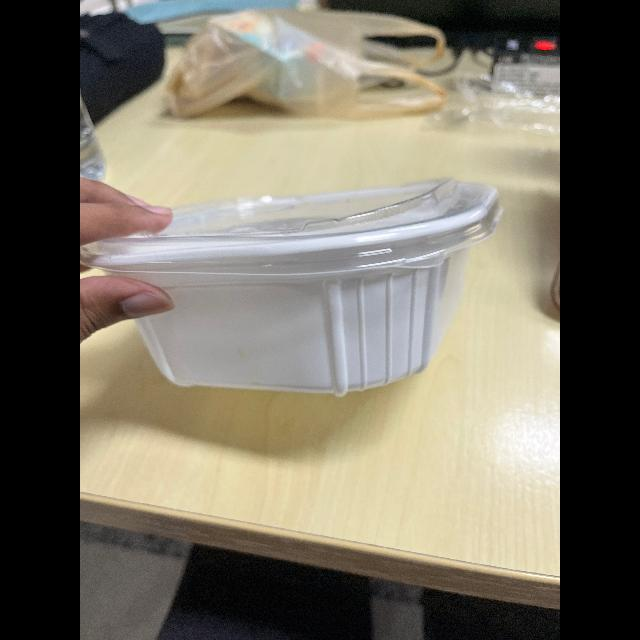plastic_box: (85, 158, 513, 392)
